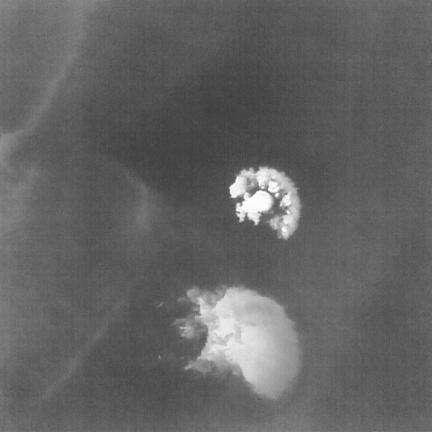flukeprints: (176, 287, 300, 398), (230, 167, 300, 238)
